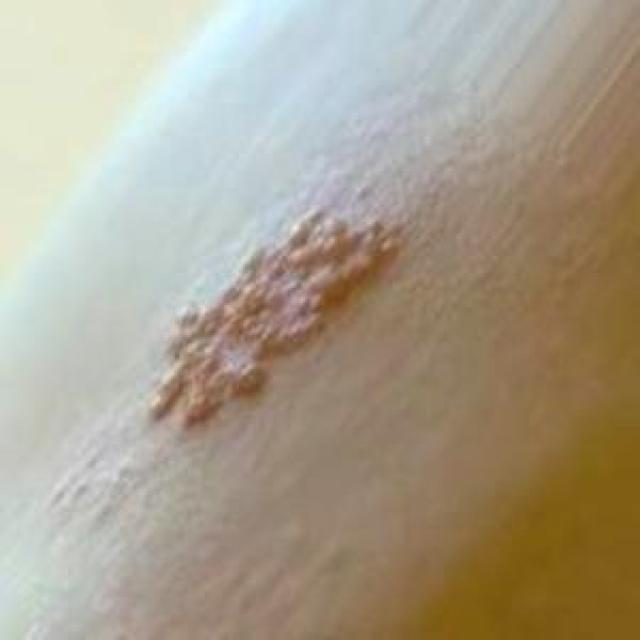Shingles: (141, 210, 405, 437)
